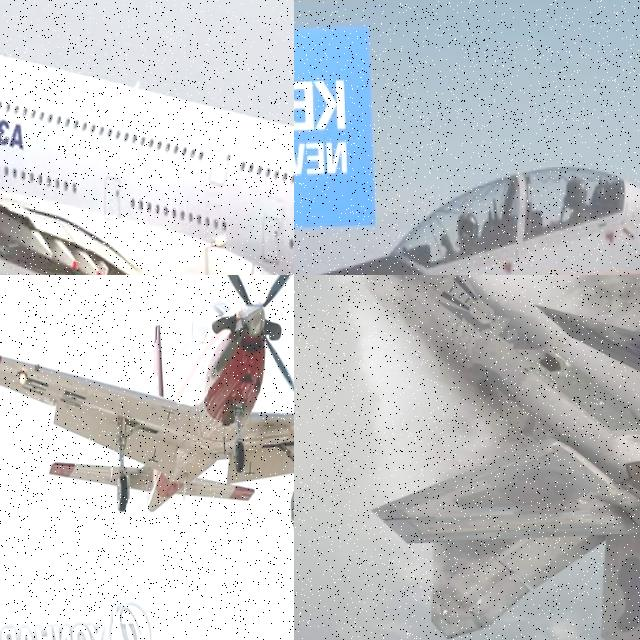A380: (0, 1, 294, 275)
F22: (294, 275, 640, 640)
KT-1: (0, 275, 294, 545), (294, 132, 640, 275)
